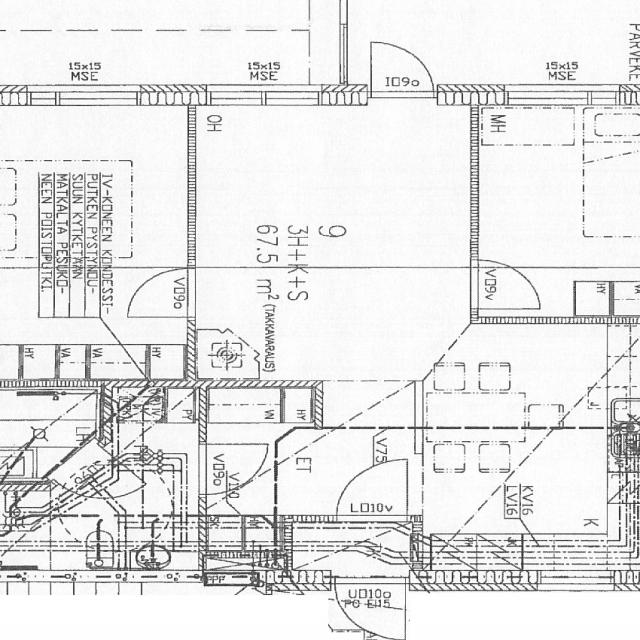door: (48, 440, 146, 518), (334, 570, 405, 640), (338, 458, 408, 522), (371, 35, 434, 105), (198, 444, 269, 494), (126, 268, 194, 317), (471, 260, 538, 308)
